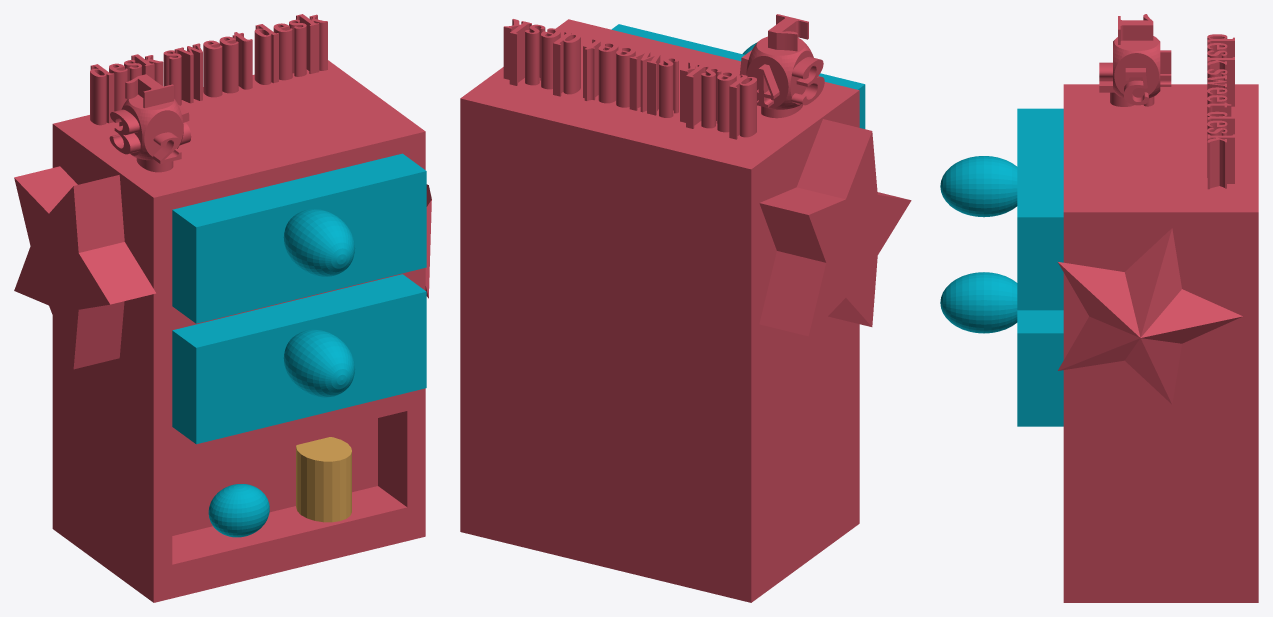
Rendered from Fantastic Tumelo-Inari.glb.
3 views of the same model, side by side, from view 1: azimuth 30°, elevation 25°; view 2: azimuth 150°, elevation 25°; view 3: azimuth 270°, elevation 25° (orthographic). The views are drawn at different scales.
Parts seen in each view (by area): view 1: Mesh_Mesh_head_geo.001_lambert2SG.001; view 2: Mesh_Mesh_head_geo.001_lambert2SG.001; view 3: Mesh_Mesh_head_geo.001_lambert2SG.001.
Boxes of the visible parts, x1,y1,x2,y2 form: Mesh_Mesh_head_geo.001_lambert2SG.001: (14, 14, 431, 602); Mesh_Mesh_head_geo.001_lambert2SG.001: (460, 14, 911, 602); Mesh_Mesh_head_geo.001_lambert2SG.001: (940, 14, 1258, 602).
Bounding box in the file's own units: 79 × 101 × 62.
